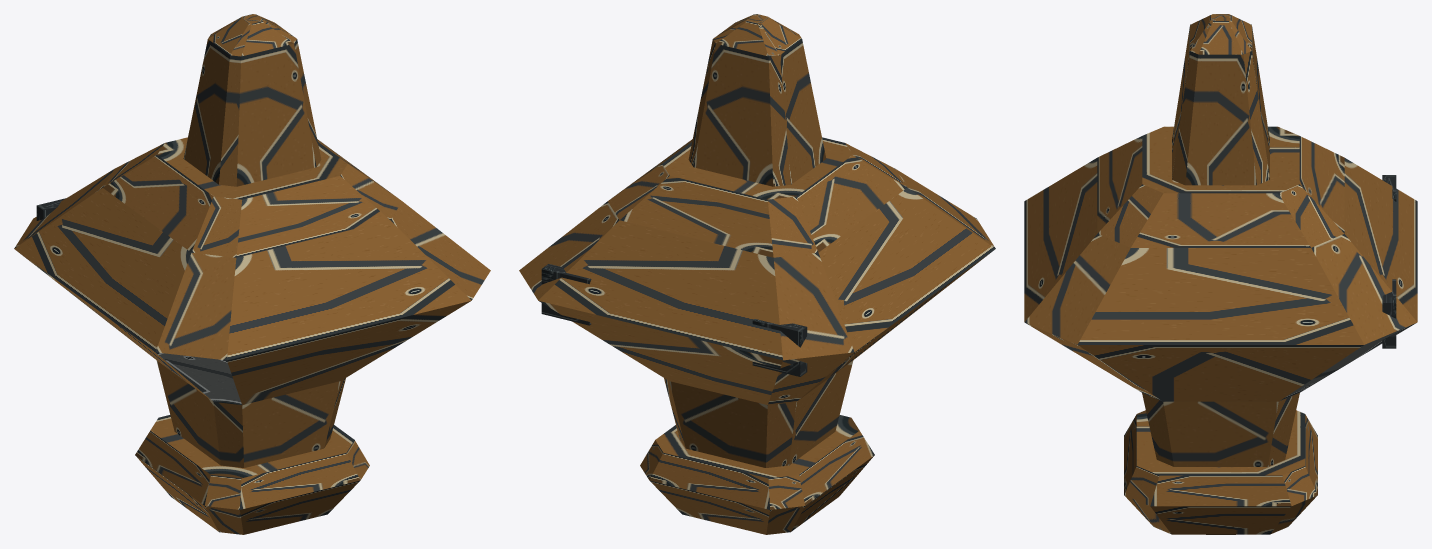
The model's file is remote_jammer.glb.
3 views of the same model, side by side, from view 1: azimuth 30°, elevation 25°; view 2: azimuth 150°, elevation 25°; view 3: azimuth 270°, elevation 25° (orthographic).
Parts seen in each view (by area): view 1: STProp_remote_jammer_Body; view 2: STProp_remote_jammer_Body; view 3: STProp_remote_jammer_Body.
Boxes of the visible parts, left/top/right/bottom form: STProp_remote_jammer_Body: left=14, top=14, right=490, bottom=534; STProp_remote_jammer_Body: left=519, top=14, right=995, bottom=534; STProp_remote_jammer_Body: left=1024, top=14, right=1417, bottom=534.
Bounding box in the file's own units: 0.7 × 1 × 0.7.
Materials: 4 (3 with a texture image).
